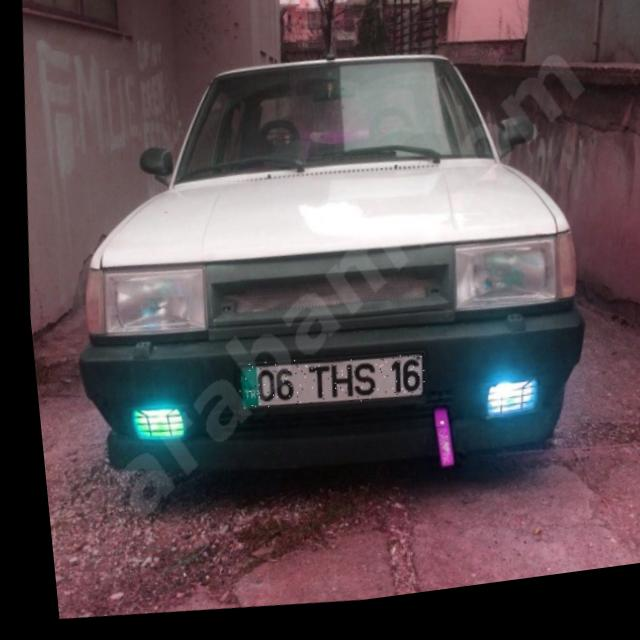license_plate: (226, 349, 419, 427)
